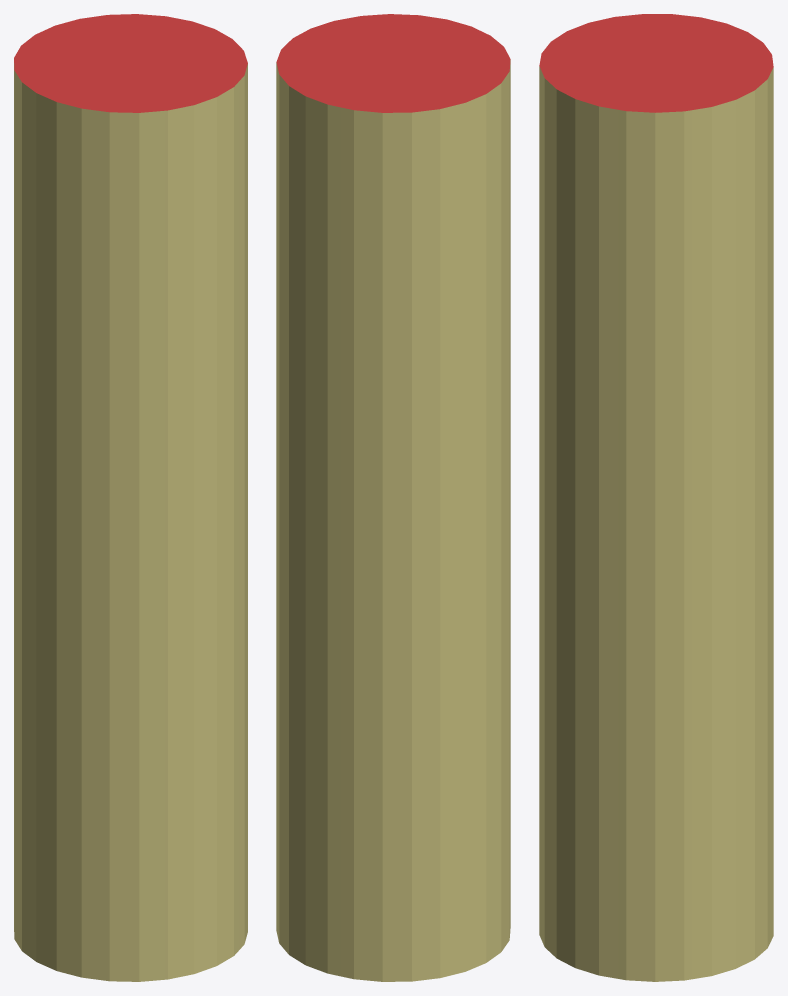
3 views of the same model, side by side, from view 1: azimuth 30°, elevation 25°; view 2: azimuth 150°, elevation 25°; view 3: azimuth 270°, elevation 25° (orthographic).
Bounding box in the file's own units: 3.19 × 3.2 × 13.09.
